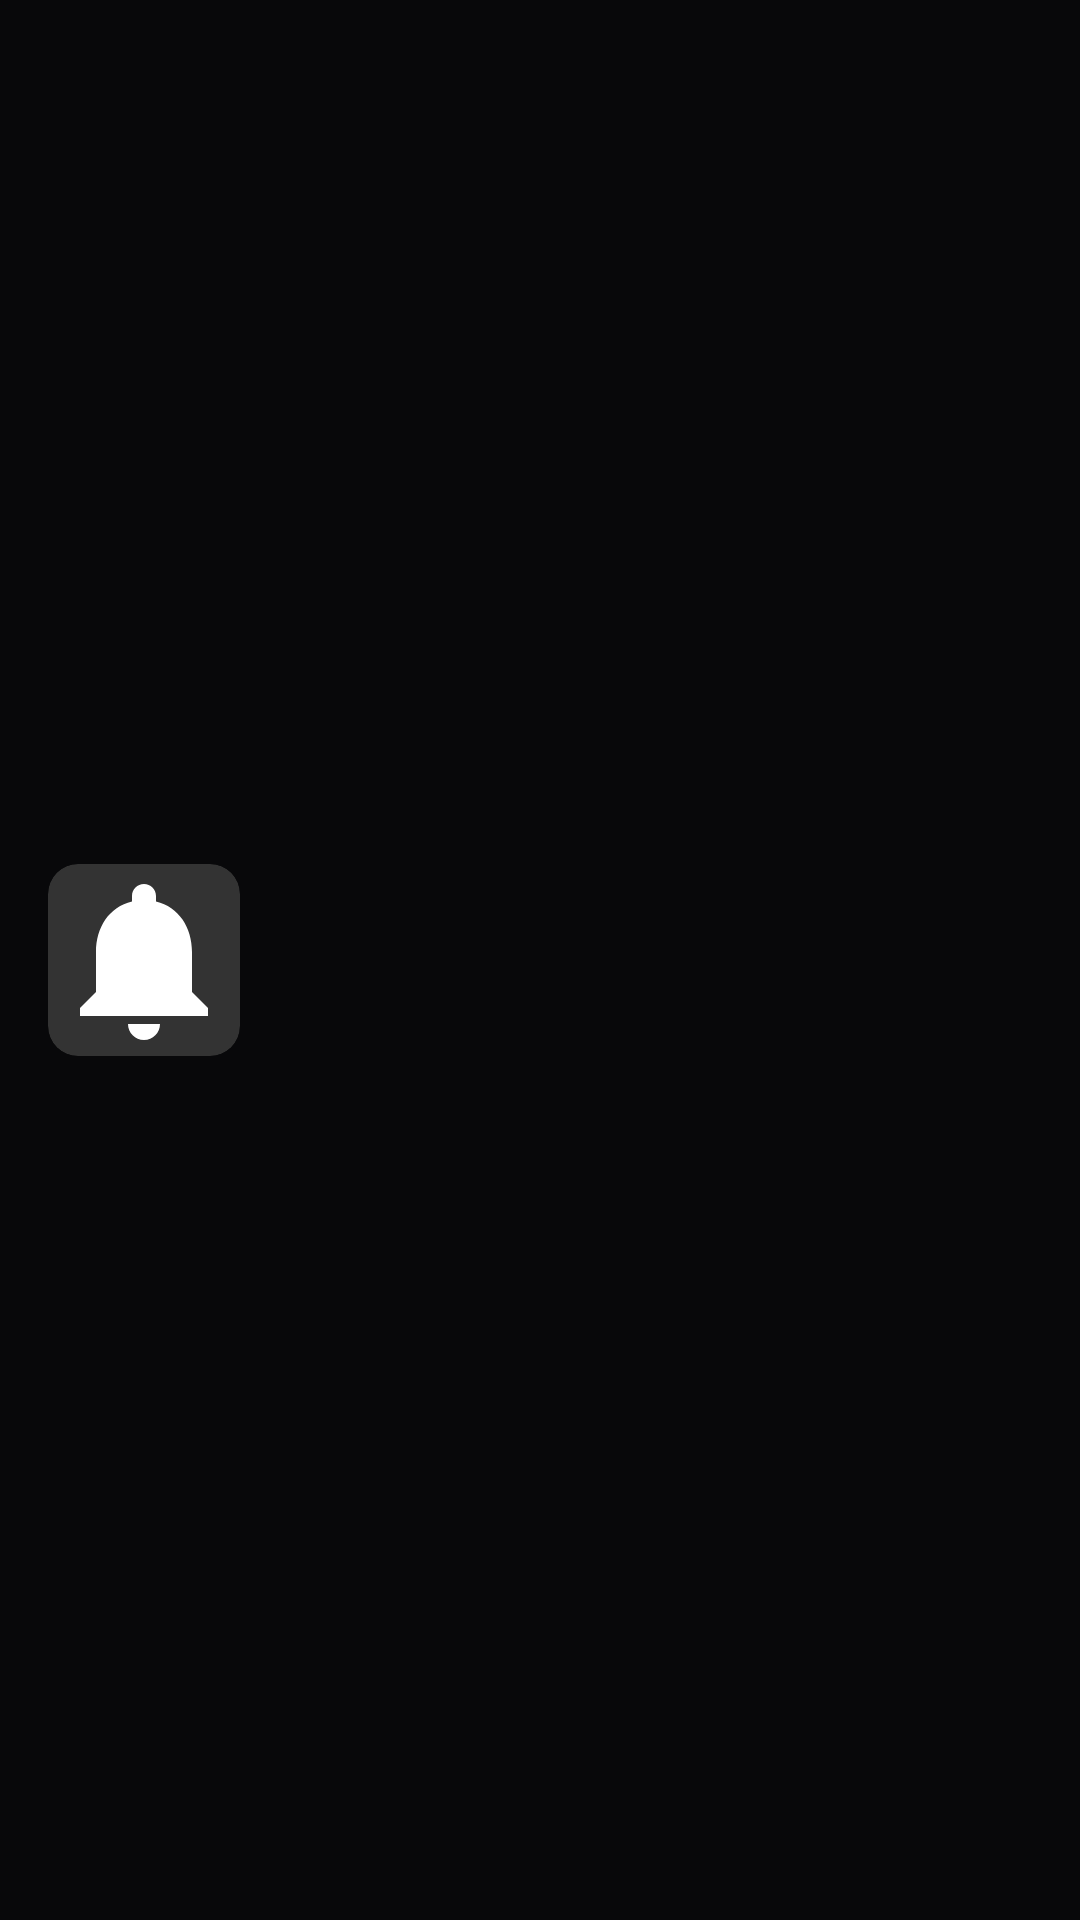

Where to tap for icons on this 1080px×1920px app screen, as [x,y]:
notification: [144,960]
